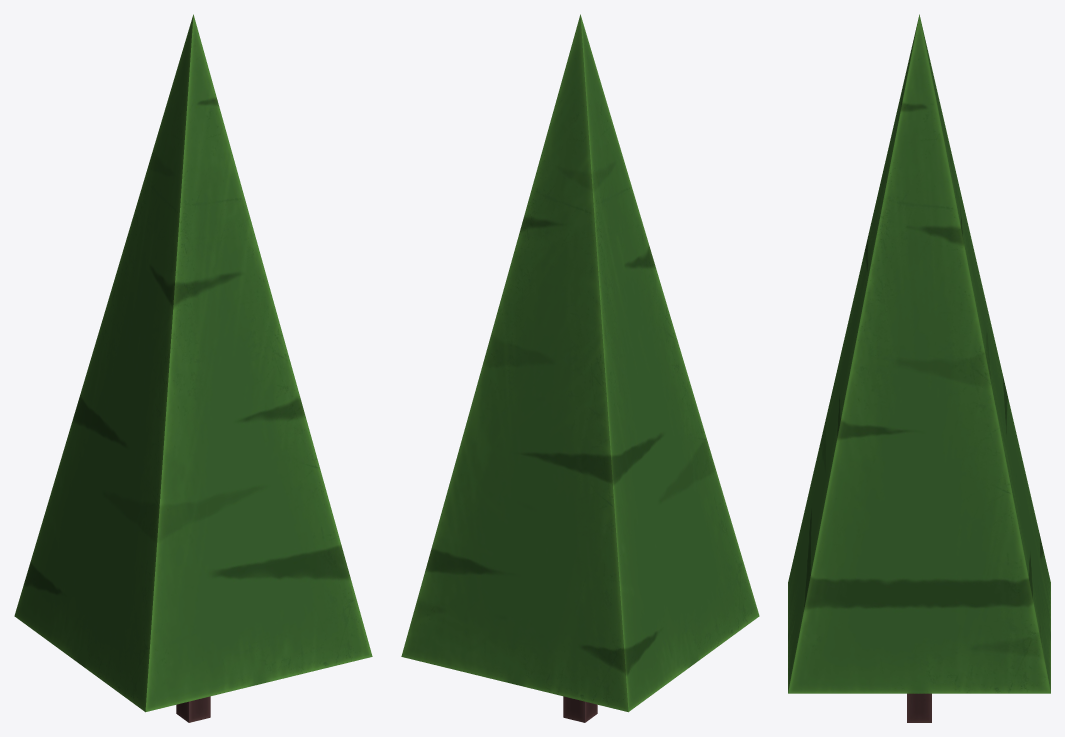
File: tree_1.fbx
The picture shows the model from 3 angles, left to right: view 1: azimuth 30°, elevation 25°; view 2: azimuth 150°, elevation 25°; view 3: azimuth 270°, elevation 25°; orthographic projection.
Parts seen in each view (by area): view 1: tree_1; view 2: tree_1; view 3: tree_1.
Boxes of the visible parts, <box> form: tree_1: <box>14,14,372,722</box>; tree_1: <box>401,14,759,722</box>; tree_1: <box>788,14,1050,722</box>.
Bounding box in the file's own units: 210 × 620 × 210.
Materials: 1 (1 with a texture image).
